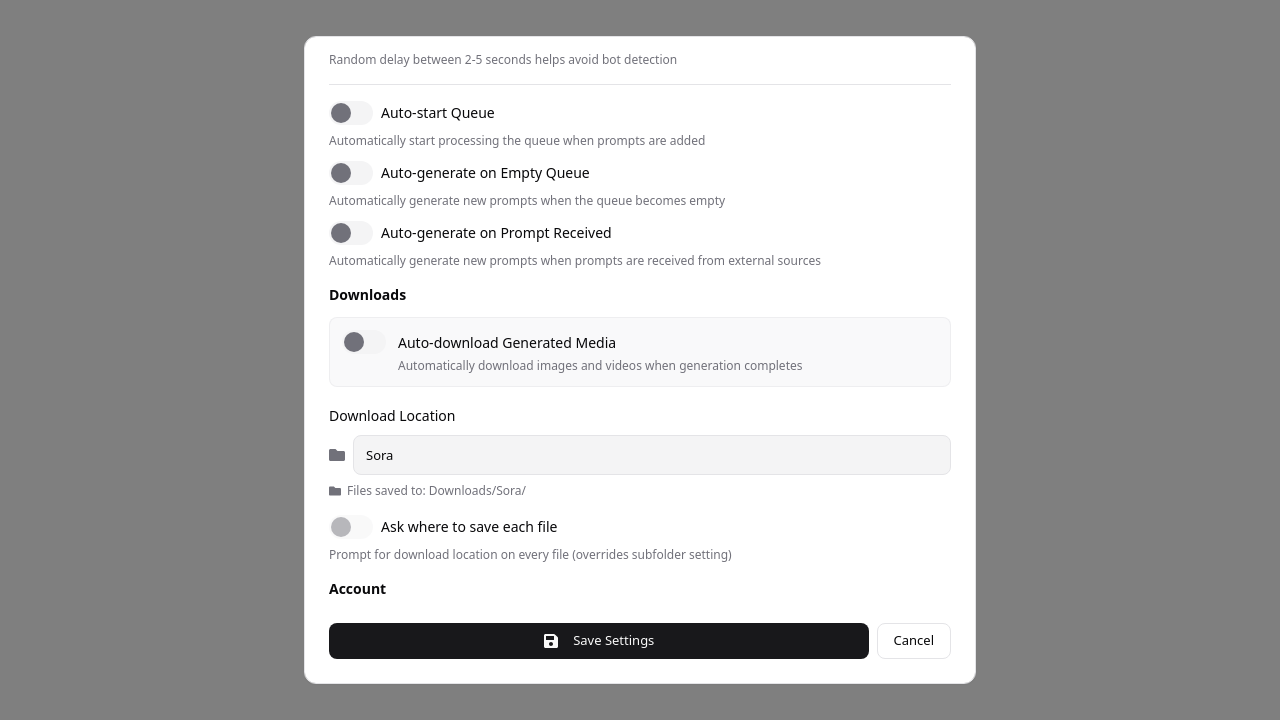
Test: SettingsDialog › should handle non-Error exceptions
(page scrolled)
Step 1. Click the button "Save Settings" → click(599, 641), box [329, 623, 868, 659]
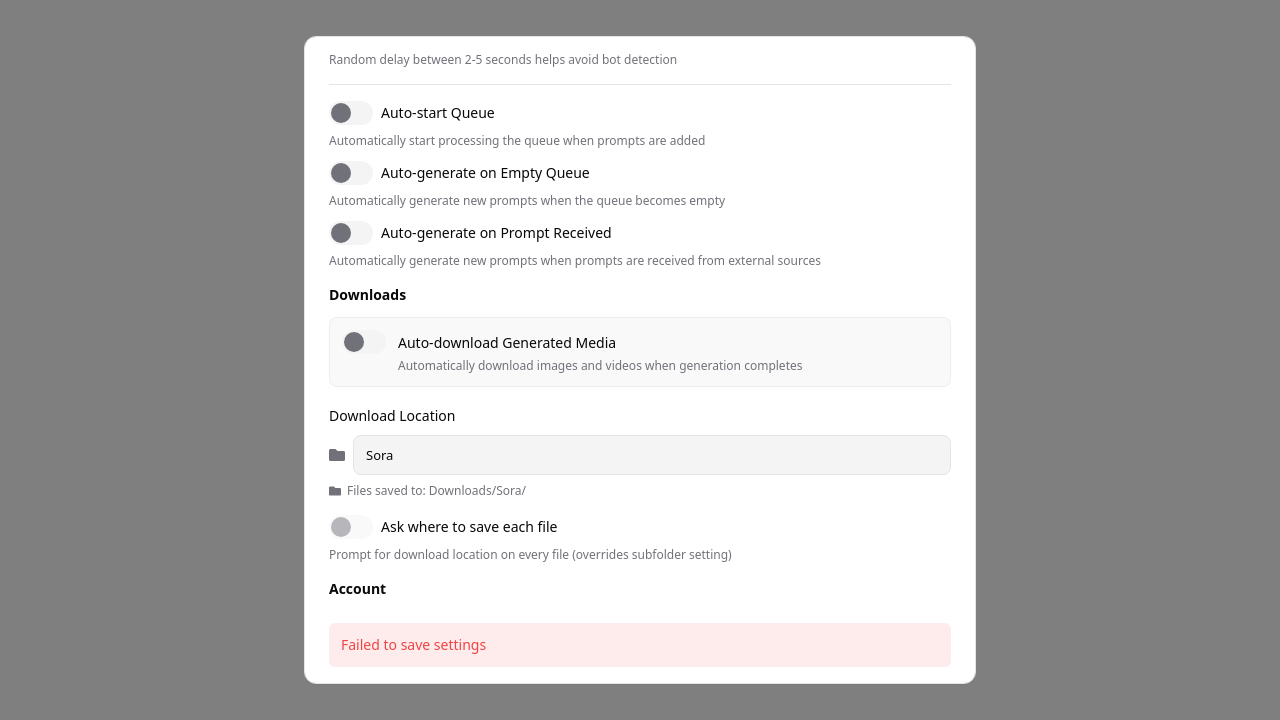
Result: the text "Failed to save settings" is shown at [329, 623, 951, 667]
